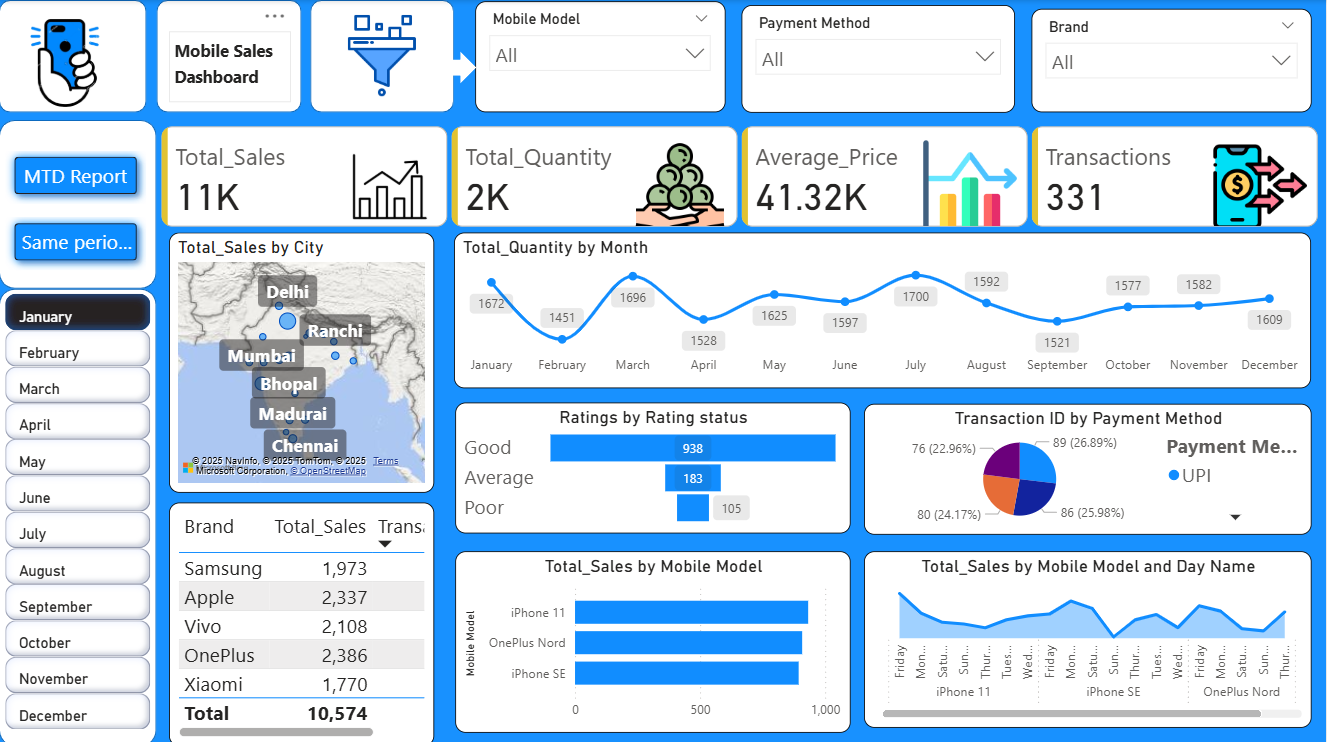

Layout of this report page (visuals, bound fields, positions):
{"tool":"powerbi","page":{"name":"Dashboard","canvas":[1280,720],"ordinal":0},"visuals":[{"type":"shape","box":[0,0,142.4,108.6],"z":0},{"type":"image","box":[0,0,127.9,127.9],"z":1000},{"type":"shape","box":[0,115.8,152,162.9],"z":2000},{"type":"shape","box":[0,278.7,152,441.6],"z":3000},{"type":"advancedSlicerVisual","fields":{"Values":["Custom_Calendar.Date.Variation.Date Hierarchy.Month"]},"box":[1.2,278.7,150.8,441.6],"z":4000},{"type":"cardVisual","fields":{"Data":["Sales_data.Total_Sales","Sales_data.Total_Quantity","Sales_data.Average_Price","Sales_data.Transactions"]},"box":[152,117,1128,107.4],"z":5000},{"type":"slicer","fields":{"Values":["Sales_data.Mobile Model"]},"box":[459.7,1.2,241.3,107.4],"z":6000},{"type":"slicer","fields":{"Values":["Sales_data.Payment Method"]},"box":[716.6,4.8,264.2,103.8],"z":7000},{"type":"slicer","fields":{"Values":["Sales_data.Brand"]},"box":[996.5,8.4,270.2,100.1],"z":8000},{"type":"shape","box":[300.4,0,138.7,108.6],"z":9000},{"type":"image","box":[278.7,8.4,182.2,90.5],"z":10000},{"type":"shape","box":[419.8,49.5,41,31.4],"z":11000},{"type":"shape","box":[152,0,139.9,108.6],"z":12000},{"type":"textbox","box":[164.1,30.2,117,68.8],"z":13000},{"type":"map","fields":{"Category":["Sales_data.City"],"Size":["Sales_data.Total_Sales"]},"box":[164.1,224.4,255.8,250.9],"z":14000},{"type":"lineChart","fields":{"Category":["Custom_Calendar.Date.Variation.Date Hierarchy.Month"],"Y":["Sales_data.Total_Quantity"]},"box":[438.8,225,827.5,150],"z":15000},{"type":"funnel","title":" Ratings by Rating status","fields":{"Y":["Sum(Sales_data.Customer Ratings)"],"Category":["Sales_data.Rating status"]},"box":[440.4,388.5,381.2,126.7],"z":16000},{"type":"pieChart","title":" Transaction ID by Payment Method","fields":{"Y":["CountNonNull(Sales_data.Transaction ID)"],"Category":["Sales_data.Payment Method"]},"box":[834.9,389.7,431.9,126.7],"z":17000},{"type":"clusteredBarChart","fields":{"Y":["Sales_data.Total_Sales"],"Category":["Sales_data.Mobile Model"]},"box":[440.4,532,381.2,174.9],"z":18000},{"type":"areaChart","fields":{"Category":["Sales_data.Mobile Model","Custom_Calendar.Day Name"],"Y":["Sales_data.Total_Sales"]},"box":[834.9,532,431.9,170.1],"z":19000},{"type":"tableEx","fields":{"Values":["Sales_data.Brand","Sales_data.Total_Sales","Sales_data.Transactions"]},"box":[164.1,485,255.8,235.3],"z":20000},{"type":"pageNavigator","box":[6,142.4,136.3,119.4],"z":21000}]}

Visuals, with their boxes in screenshot pixels (x1, y1, x2, y2), scaled from the page's 1280x720 canvas onto the 1327x742 screenshot:
shape: [left=0, top=0, right=148, bottom=112]
image: [left=0, top=0, right=133, bottom=132]
shape: [left=0, top=119, right=158, bottom=287]
shape: [left=0, top=287, right=158, bottom=741]
advancedSlicerVisual - Custom_Calendar.Date.Variation.Date Hierarchy.Month: [left=1, top=287, right=158, bottom=741]
cardVisual - Sales_data.Total_Sales x Sales_data.Total_Quantity: [left=158, top=121, right=1326, bottom=231]
slicer - Sales_data.Mobile Model: [left=477, top=1, right=727, bottom=112]
slicer - Sales_data.Payment Method: [left=743, top=5, right=1017, bottom=112]
slicer - Sales_data.Brand: [left=1033, top=9, right=1313, bottom=112]
shape: [left=311, top=0, right=455, bottom=112]
image: [left=289, top=9, right=478, bottom=102]
shape: [left=435, top=51, right=478, bottom=83]
shape: [left=158, top=0, right=303, bottom=112]
textbox: [left=170, top=31, right=291, bottom=102]
map - Sales_data.City x Sales_data.Total_Sales: [left=170, top=231, right=435, bottom=490]
lineChart - Custom_Calendar.Date.Variation.Date Hierarchy.Month x Sales_data.Total_Quantity: [left=455, top=232, right=1313, bottom=386]
" Ratings by Rating status" funnel: [left=457, top=400, right=852, bottom=531]
" Transaction ID by Payment Method" pieChart: [left=866, top=402, right=1313, bottom=532]
clusteredBarChart - Sales_data.Total_Sales x Sales_data.Mobile Model: [left=457, top=548, right=852, bottom=728]
areaChart - Sales_data.Mobile Model x Custom_Calendar.Day Name: [left=866, top=548, right=1313, bottom=724]
tableEx - Sales_data.Brand x Sales_data.Total_Sales: [left=170, top=500, right=435, bottom=741]
pageNavigator: [left=6, top=147, right=148, bottom=270]
